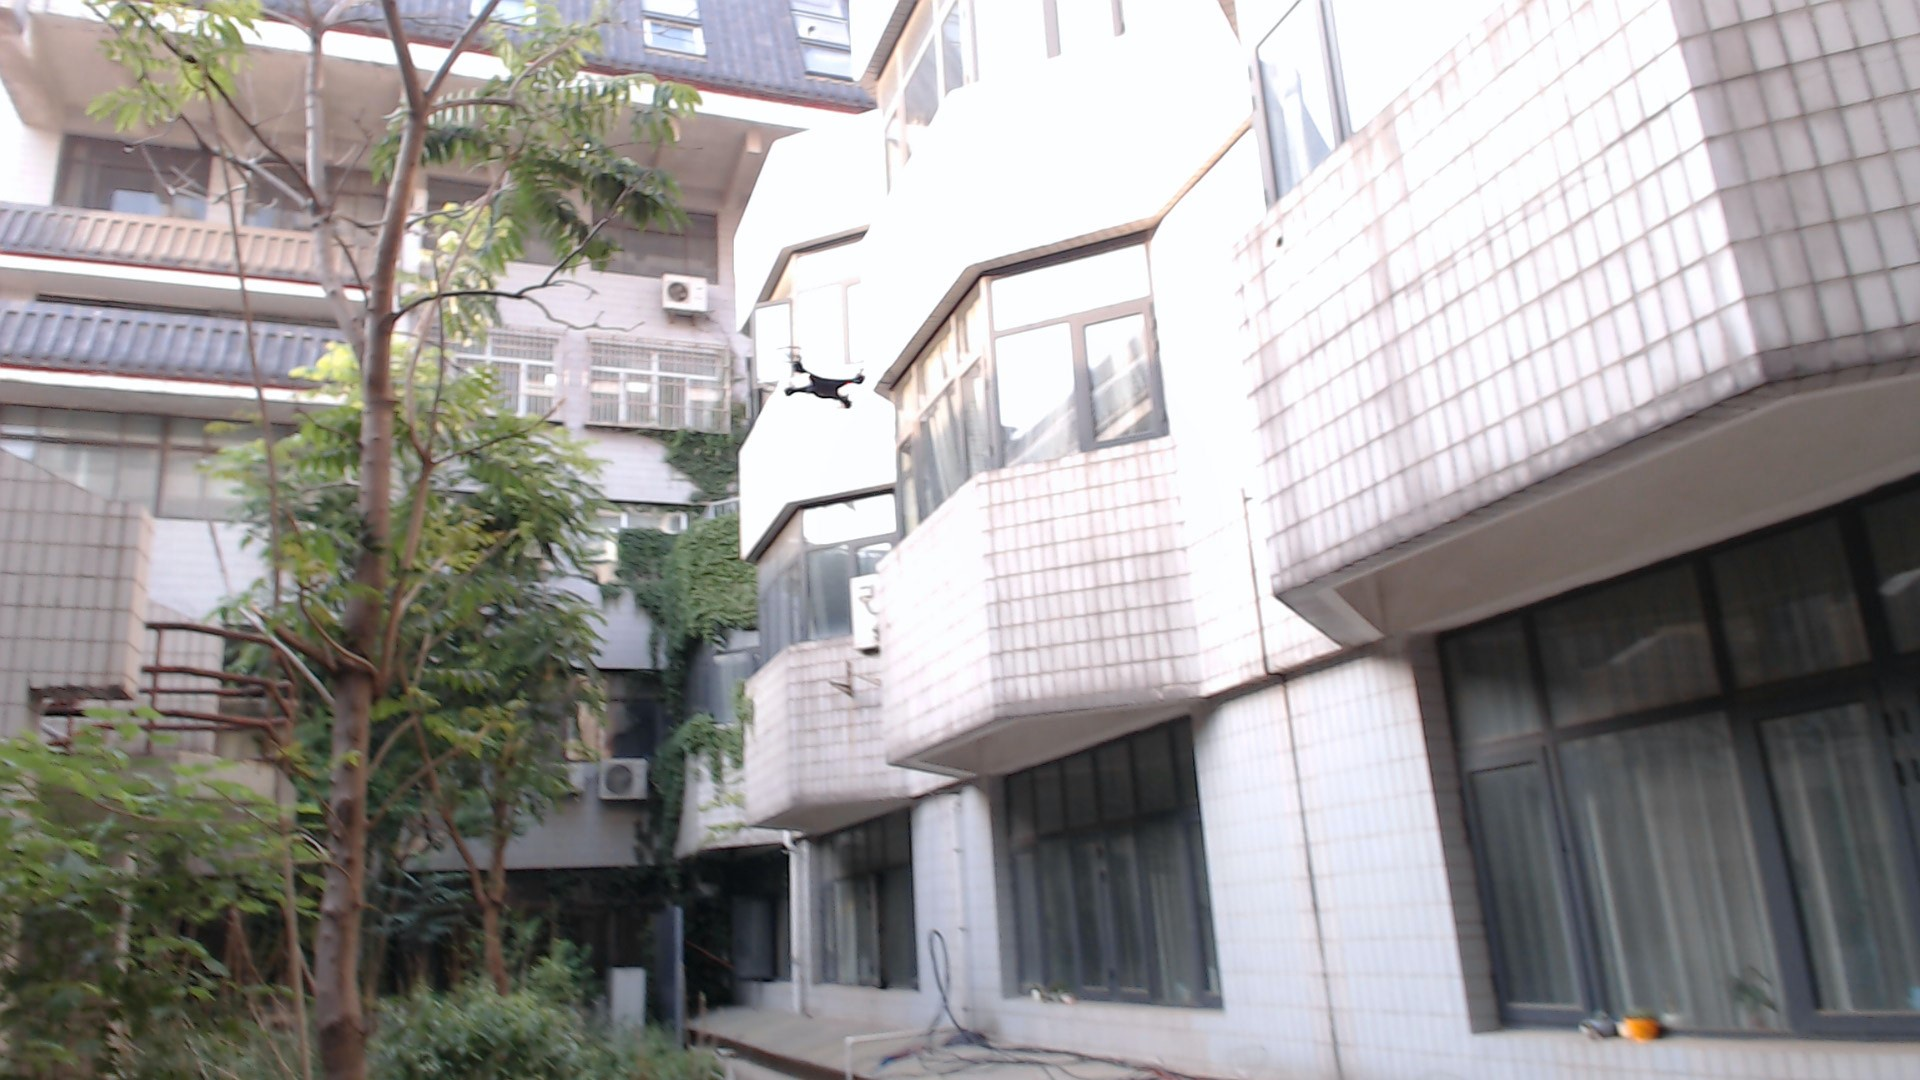drone: (762, 339, 891, 419)
